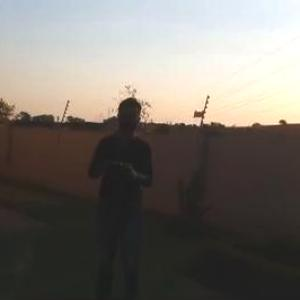follow: (84, 98, 160, 299)
